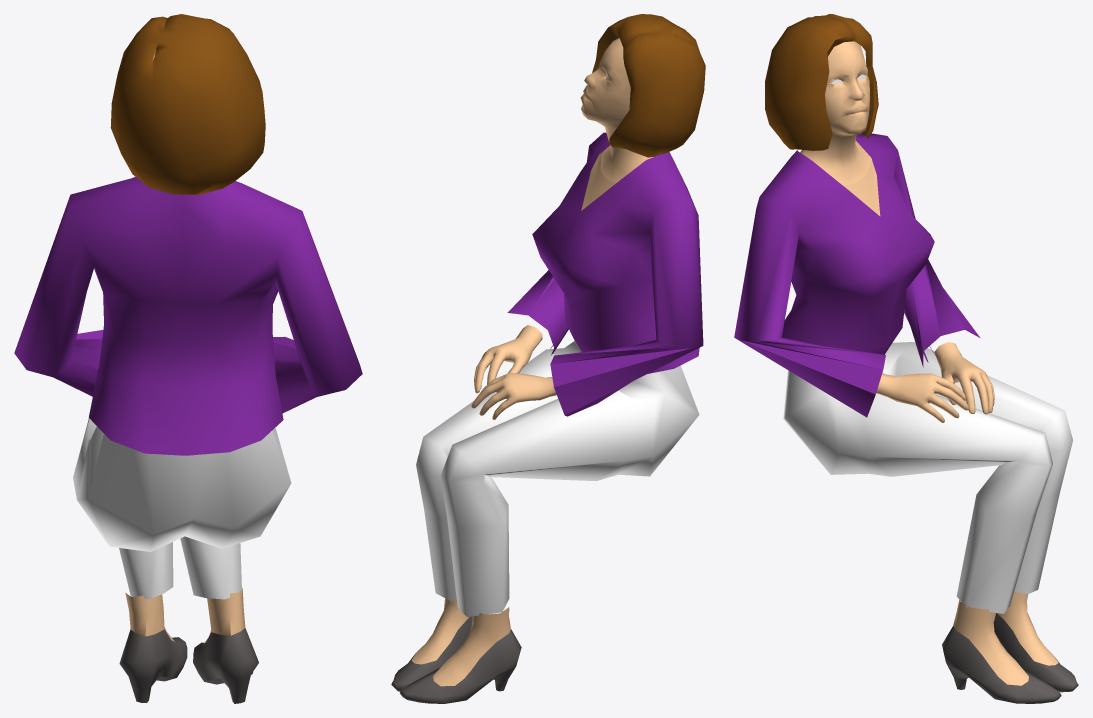
The model's file is femaleAvatar.gltf.
3 renders of one model, left to right at view 1: azimuth 30°, elevation 25°; view 2: azimuth 150°, elevation 25°; view 3: azimuth 270°, elevation 25°, orthographic. The views are drawn at different scales.
Parts seen in each view (by area): view 1: Group_099, Group_101, Group_103, Group_106, Group_105; view 2: Group_099, Group_101, Group_103, Group_102, Group_106, Group_105, Group_100; view 3: Group_099, Group_101, Group_102, Group_103, Group_106, Group_105, Group_100.
Part boxes in pixels (left/top/right/bottom): Group_099: left=14, top=177, right=362, bottom=455; Group_101: left=73, top=418, right=291, bottom=599; Group_103: left=110, top=14, right=265, bottom=195; Group_106: left=119, top=628, right=258, bottom=703; Group_105: left=125, top=588, right=245, bottom=644; Group_099: left=507, top=132, right=703, bottom=416; Group_101: left=416, top=341, right=699, bottom=616; Group_103: left=592, top=14, right=705, bottom=157; Group_102: left=471, top=38, right=653, bottom=419; Group_106: left=391, top=616, right=521, bottom=703; Group_105: left=411, top=598, right=510, bottom=686; Group_100: left=581, top=148, right=616, bottom=210; Group_099: left=734, top=133, right=980, bottom=417; Group_101: left=783, top=342, right=1072, bottom=613; Group_102: left=800, top=41, right=994, bottom=422; Group_103: left=765, top=14, right=878, bottom=150; Group_106: left=942, top=613, right=1078, bottom=703; Group_105: left=953, top=592, right=1058, bottom=685; Group_100: left=842, top=159, right=880, bottom=216.
Size of the model in its own units: 18.99 by 47.66 by 24.09.
